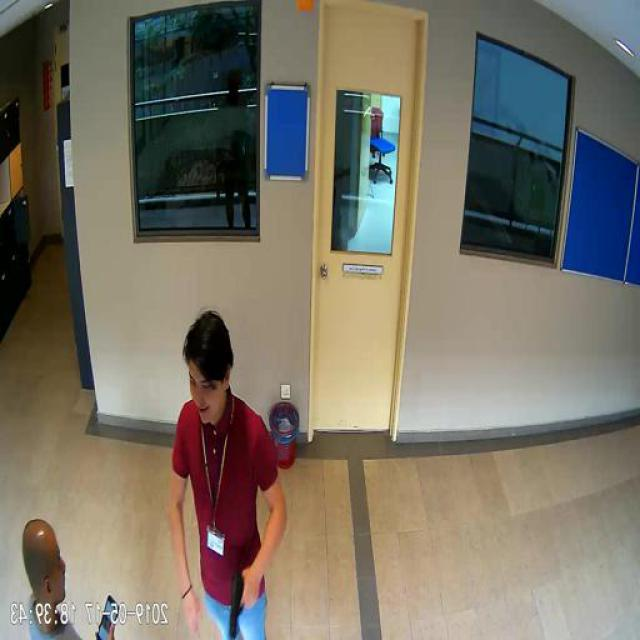Gun: (230, 570, 260, 638)
